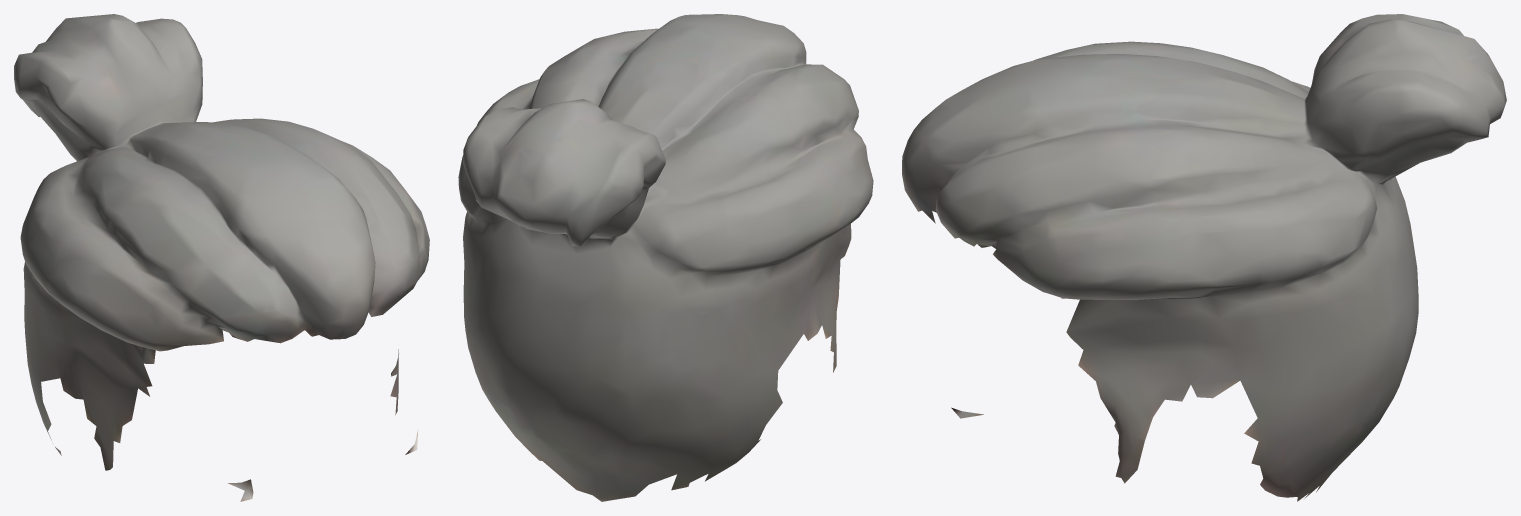
The model's file is hair-m-man-bun.glb.
The picture shows the model from 3 angles, left to right: view 1: azimuth 30°, elevation 25°; view 2: azimuth 150°, elevation 25°; view 3: azimuth 270°, elevation 25°; orthographic projection. The views are drawn at different scales.
Parts seen in each view (by area): view 1: hair-m-man-bun; view 2: hair-m-man-bun; view 3: hair-m-man-bun.
Part boxes in pixels (x1,y1,x2,y2): hair-m-man-bun: (14, 14, 429, 501); hair-m-man-bun: (458, 14, 873, 501); hair-m-man-bun: (902, 14, 1506, 501).
Size of the model in its own units: 0.8312 by 0.9533 by 1.13.
1 material, 1 textured.
